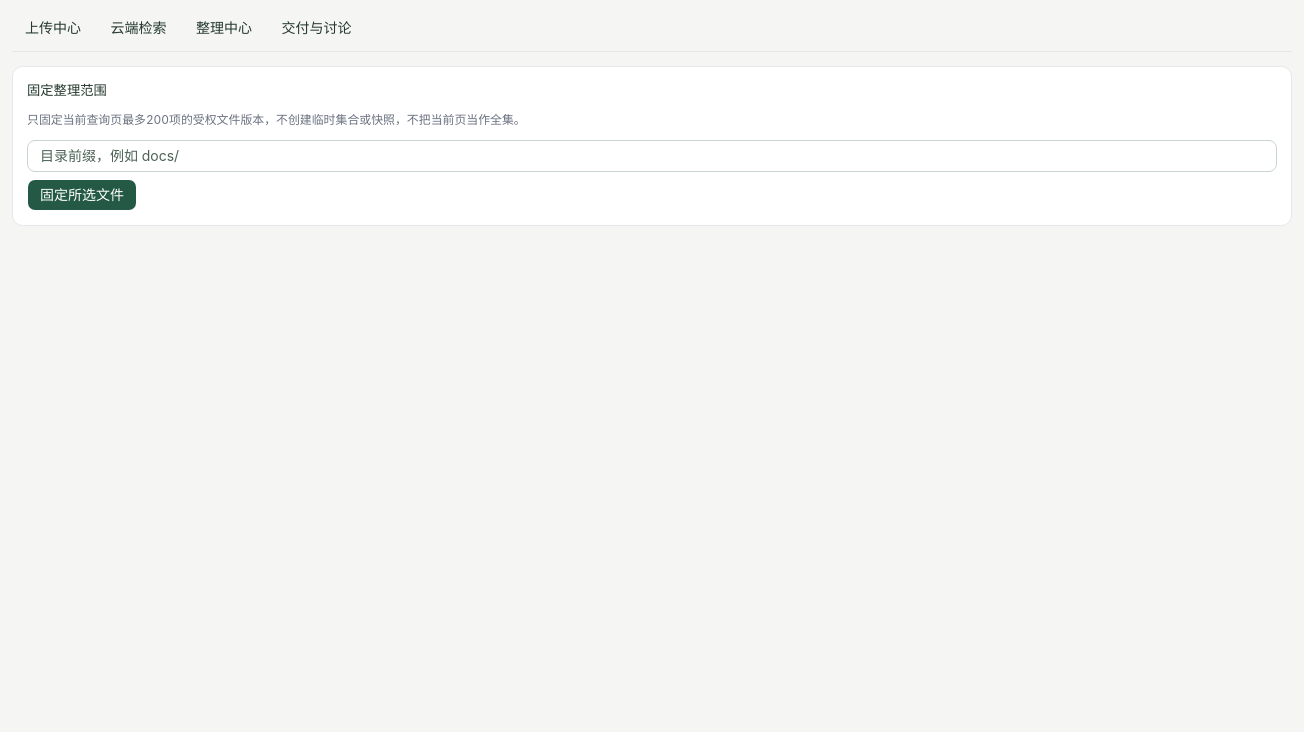
it: TestFPPlatformConsumers/page › requires a fresh preview when the plan went stale and never auto-reconfirms
Type "docs/" into the field labelled "目录前缀" at (652, 156), box [27,140,1277,172]
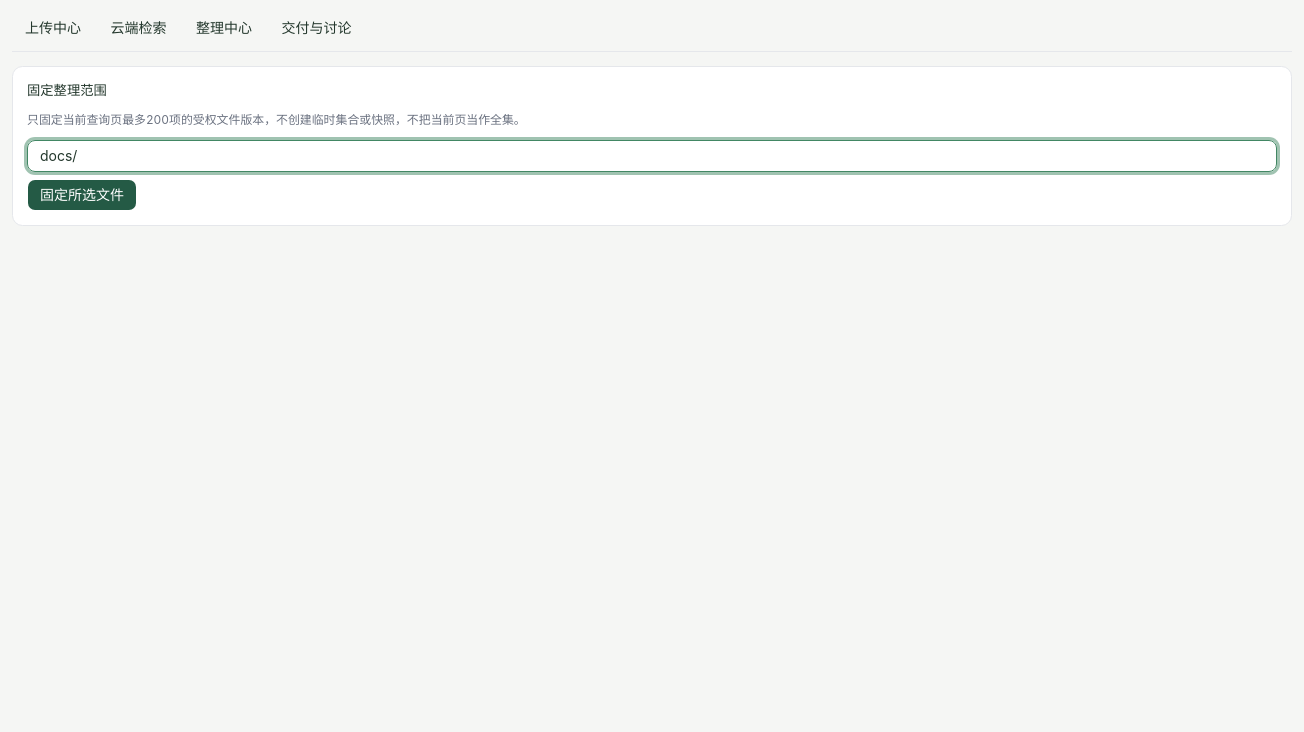
Click the button "固定所选文件" at (82, 195), box [27,179,137,211]
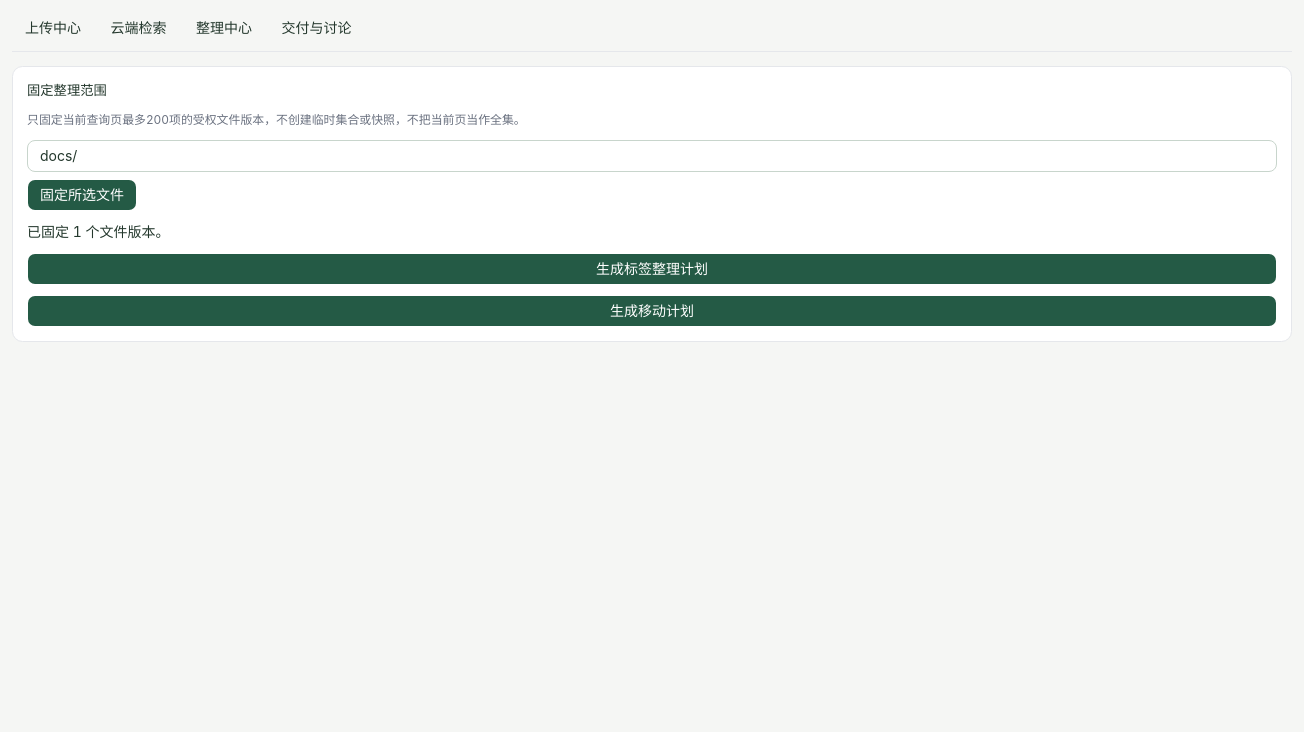
Expected: the text "已固定 1 个文件版本。" is shown, [27,223,170,240]
Click the button "生成标签整理计划" at (652, 269), box [27,253,1277,285]
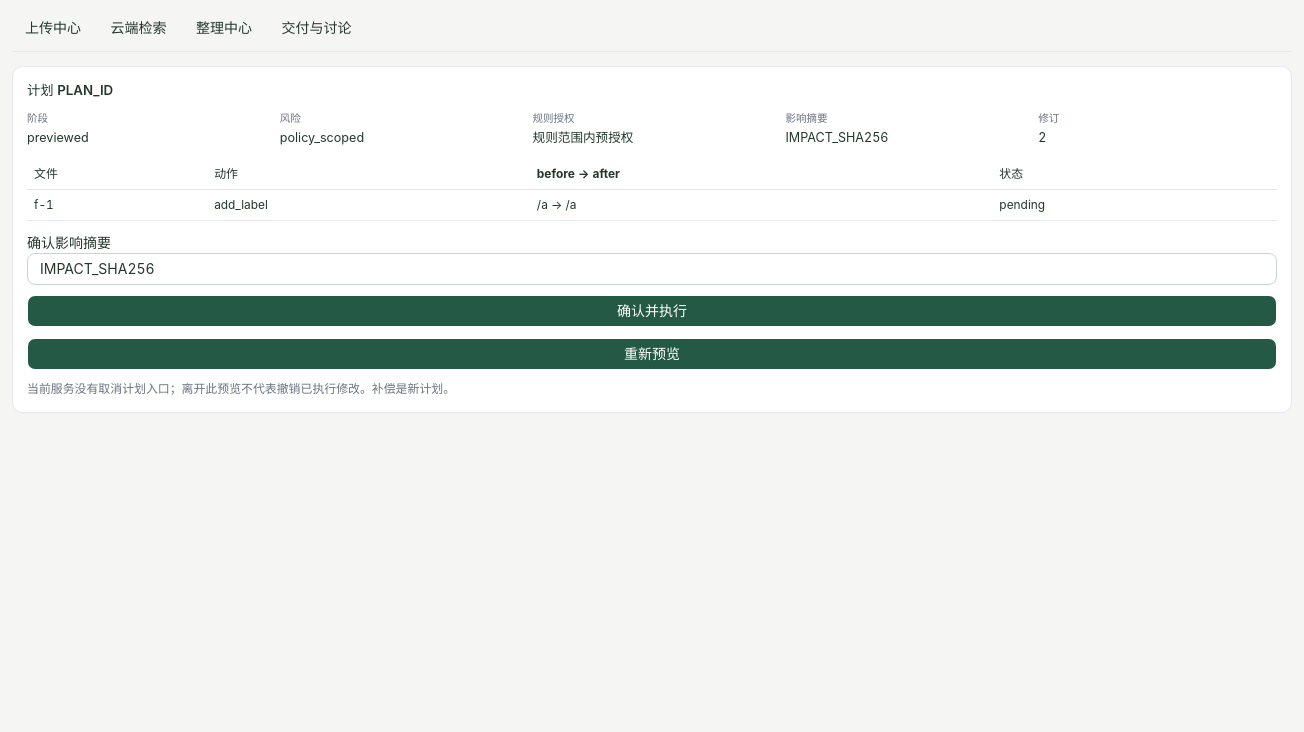
Expected: the heading "计划 PLAN_ID" is shown, [27,82,113,98]
Click the button "确认并执行" at (652, 311), box [27,295,1277,327]
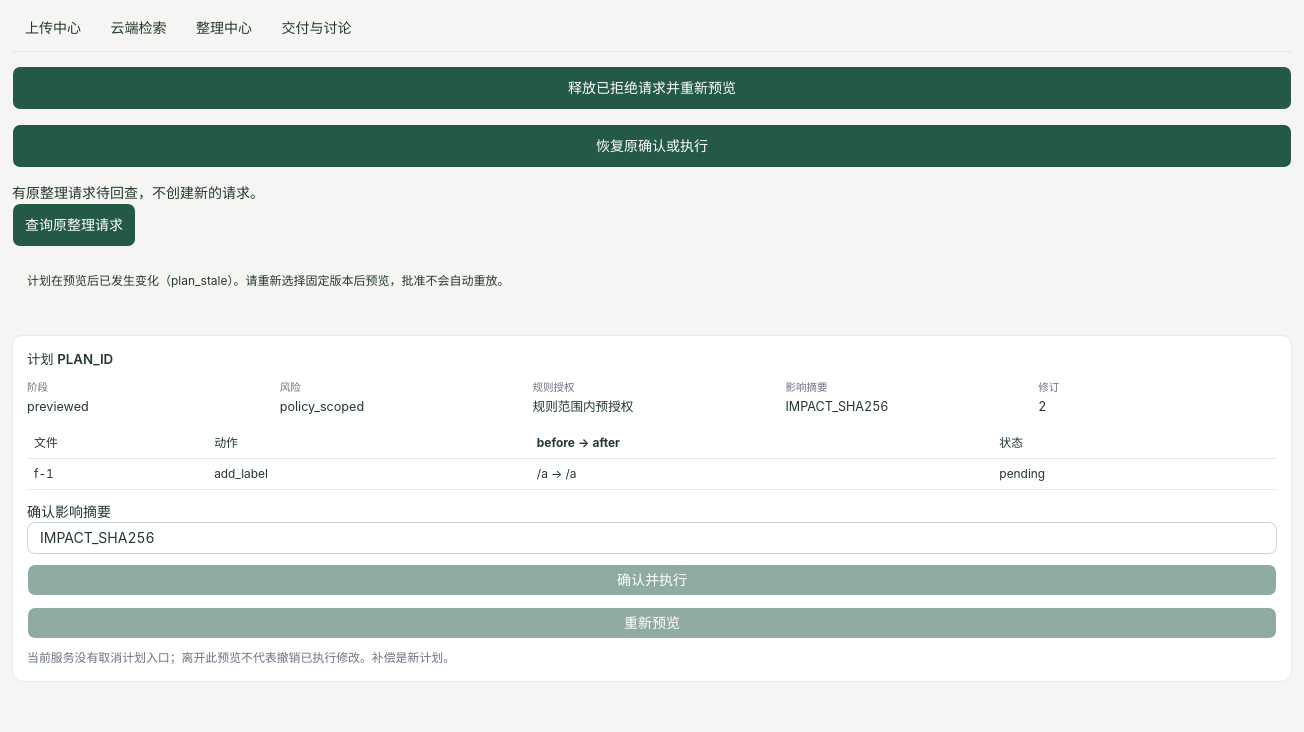
Expected: the text "计划在预览后已发生变化（plan_stale）。请重新选择固定版本后预览，批准不会自动重放。" is shown, [27,273,510,288]
Click the button "释放已拒绝请求并重新预览" at (652, 88), box [12,66,1292,110]
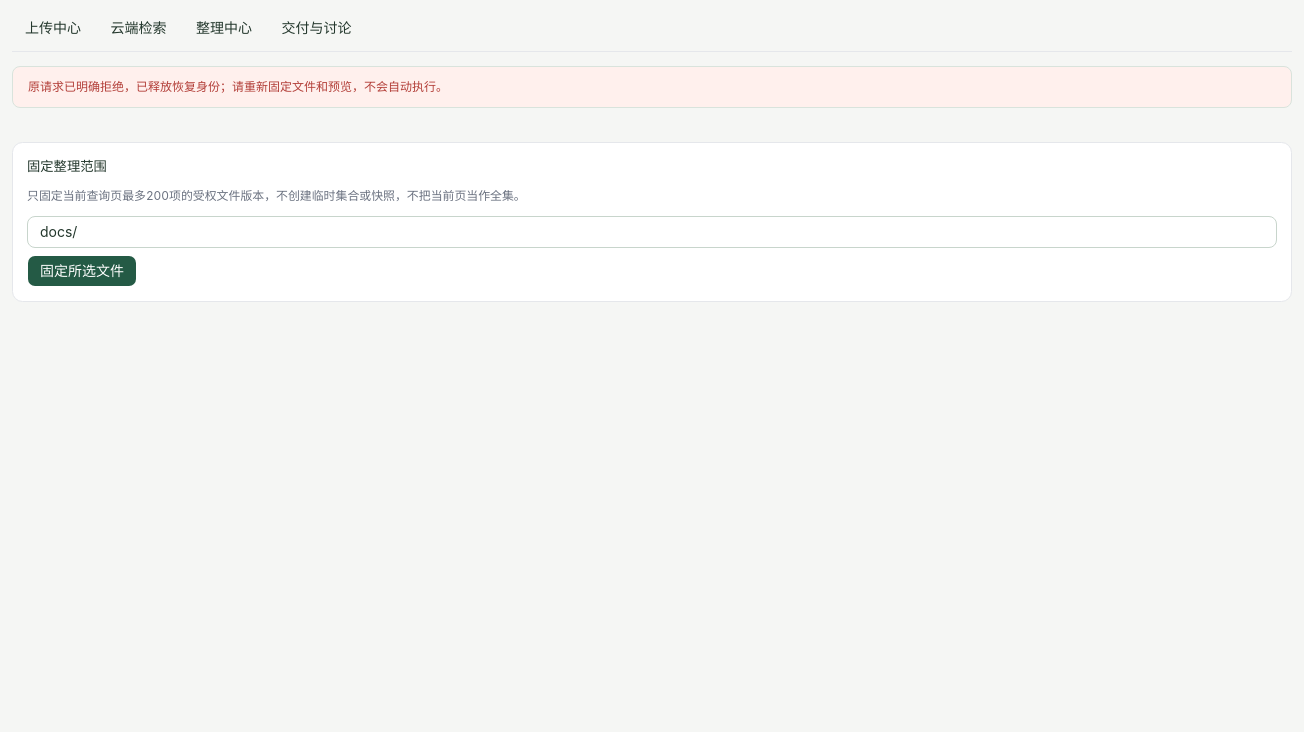
Expected: the text "原请求已明确拒绝，已释放恢复身份；请重新固定文件和预览，不会自动执行。" is shown, [12,66,1292,108]
Expected: the button "固定所选文件" is enabled, [27,255,137,287]
